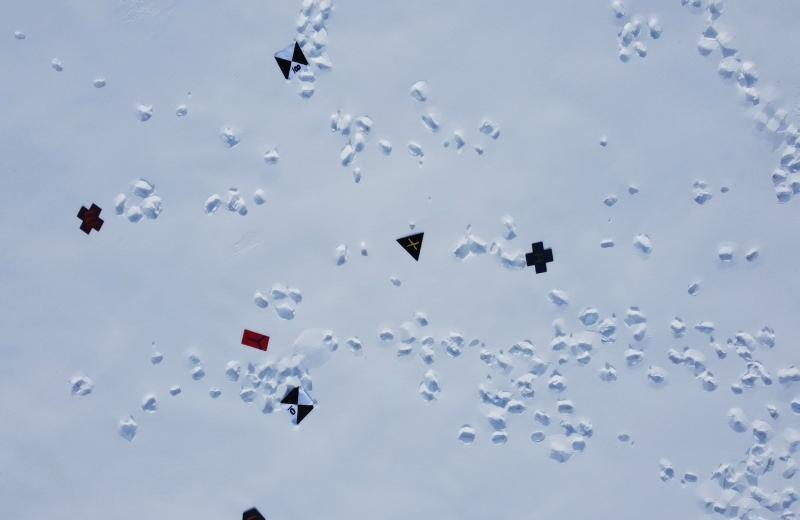Cross: (526, 242, 555, 275), (78, 203, 104, 234)
Rectangle: (241, 326, 272, 354)
Triangle: (396, 230, 428, 262)
